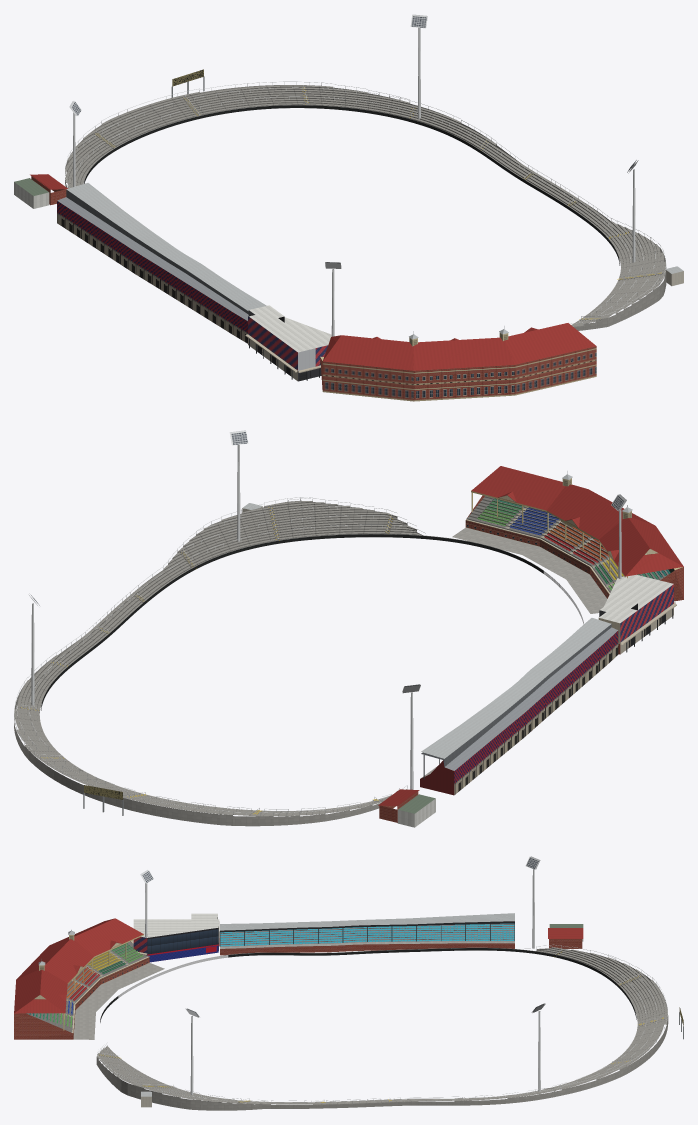
Rendered from norwood_oval.glb.
3 renders of one model, top to bottom at view 1: azimuth 30°, elevation 25°; view 2: azimuth 150°, elevation 25°; view 3: azimuth 270°, elevation 25°, orthographic. The views are drawn at different scales.
Visible parts, largest first — view 1: terrace, ses_back, ses_roof, ws_rear, ws_roof, wbcc, fence, terrace_rails, nw_annex, nw_red; view 2: terrace, ses_roof, ws_rear, ws_roof, ses_body, ses_rake, wbcc, ses_bench, terrace_rails, fence, nw_annex, ws_body (+1 smaller); view 3: terrace, ws_body, ses_roof, wbcc, ws_roof, ses_body, ses_rake, fence, terrace_rails, ses_bench, ses_back, nw_red.
Part boxes in pixels (bbox=[...]): terrace: bbox=[65, 85, 666, 330]; ses_back: bbox=[320, 346, 596, 401]; ses_roof: bbox=[323, 323, 596, 370]; ws_rear: bbox=[57, 197, 248, 343]; ws_roof: bbox=[66, 183, 266, 314]; wbcc: bbox=[248, 315, 331, 381]; fence: bbox=[84, 105, 619, 265]; terrace_rails: bbox=[65, 81, 666, 325]; nw_annex: bbox=[14, 178, 49, 208]; nw_red: bbox=[30, 174, 67, 205]; terrace: bbox=[14, 500, 423, 826]; ses_roof: bbox=[471, 466, 683, 576]; ws_rear: bbox=[445, 627, 618, 794]; ws_roof: bbox=[421, 618, 611, 766]; ses_body: bbox=[452, 519, 674, 613]; ses_rake: bbox=[466, 496, 669, 592]; wbcc: bbox=[598, 574, 673, 654]; ses_bench: bbox=[477, 498, 670, 590]; terrace_rails: bbox=[14, 497, 425, 815]; fence: bbox=[41, 533, 583, 710]; nw_annex: bbox=[397, 794, 435, 827]; ws_body: bbox=[420, 760, 454, 795]; terrace: bbox=[96, 947, 668, 1110]; ws_body: bbox=[220, 923, 514, 955]; ses_roof: bbox=[14, 918, 143, 1013]; wbcc: bbox=[133, 919, 219, 962]; ws_roof: bbox=[220, 913, 514, 932]; ses_body: bbox=[72, 956, 164, 1039]; ses_rake: bbox=[27, 941, 148, 1032]; fence: bbox=[100, 947, 636, 1022]; terrace_rails: bbox=[97, 944, 667, 1104]; ses_bench: bbox=[26, 943, 143, 1027]; ses_back: bbox=[14, 941, 131, 1039]; nw_red: bbox=[548, 928, 583, 948].
Bounding box in the file's own units: 136 × 32.26 × 220.
Materials: 73 (73 with a texture image).
